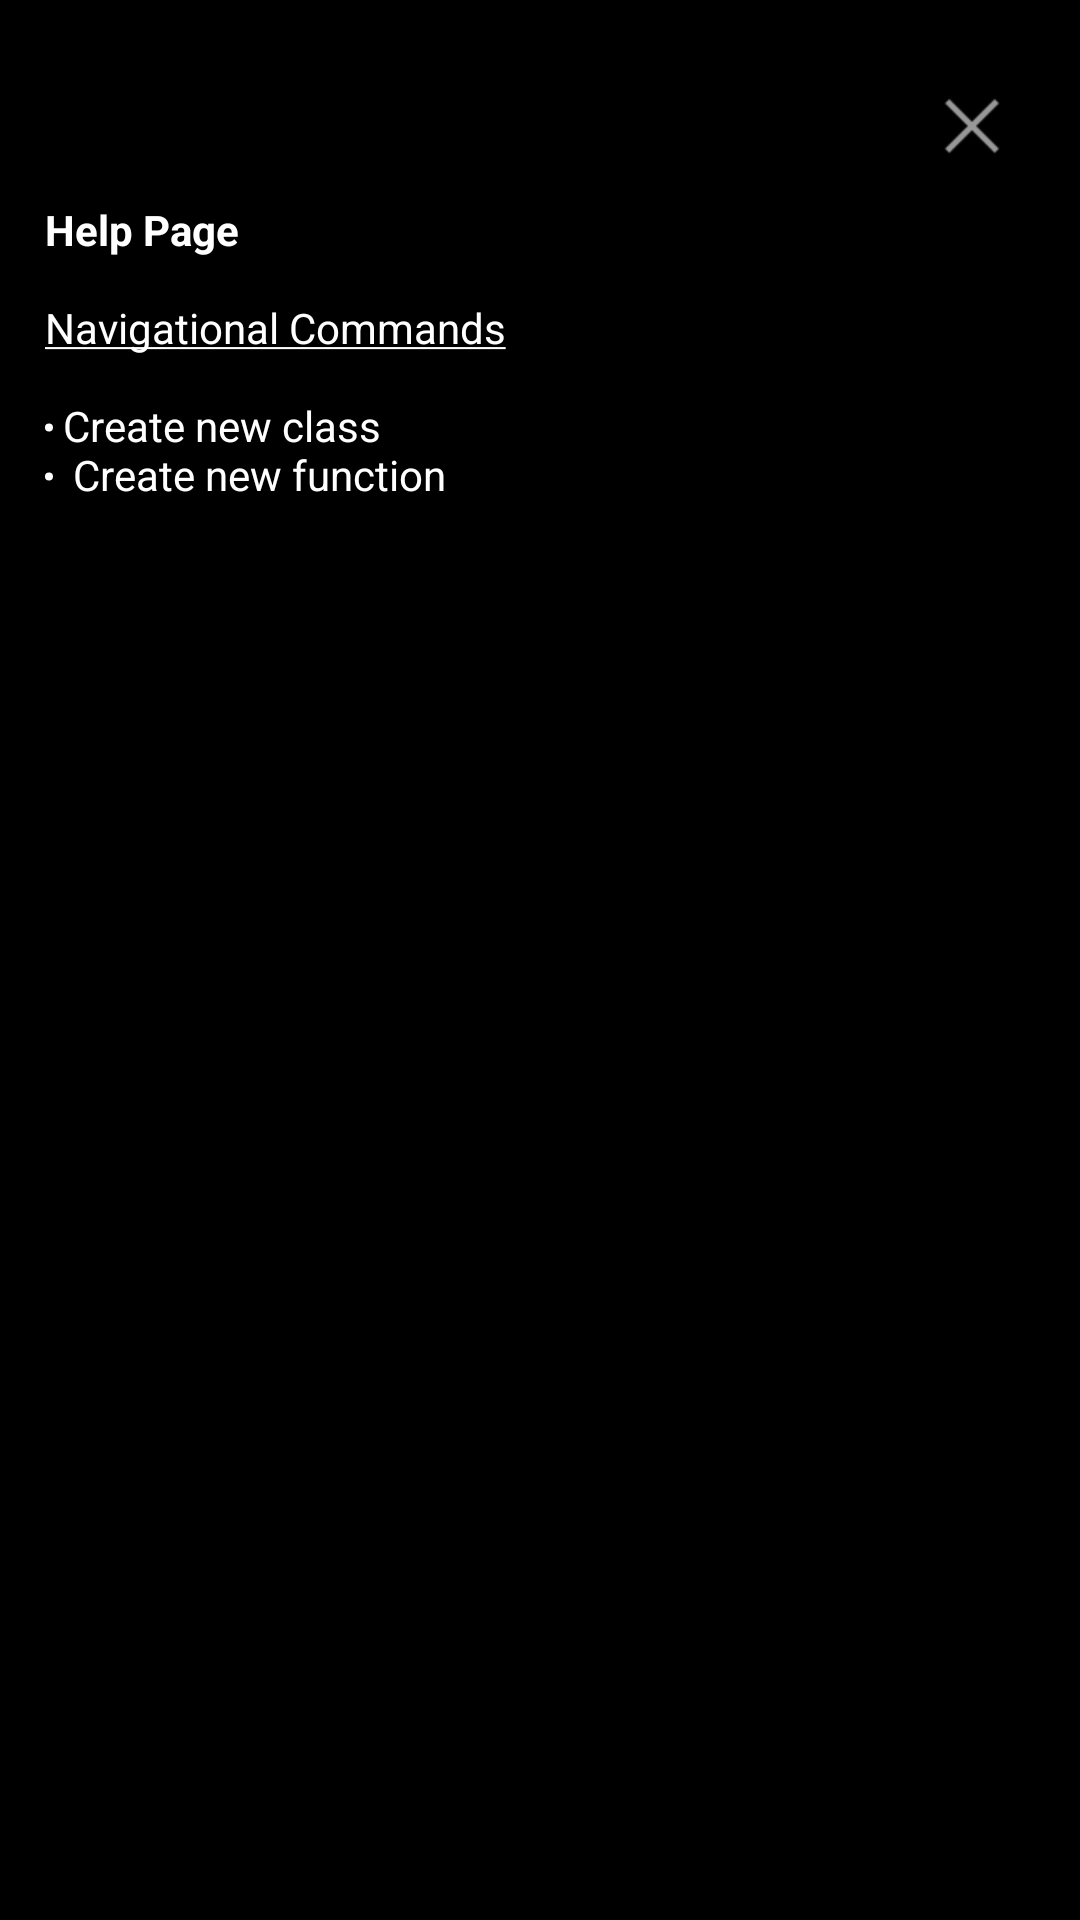

Icons on this 1080px x 1920px Android screen, each with the point to tap as (x=x, y=y):
close clear cancel: (x=972, y=126)
